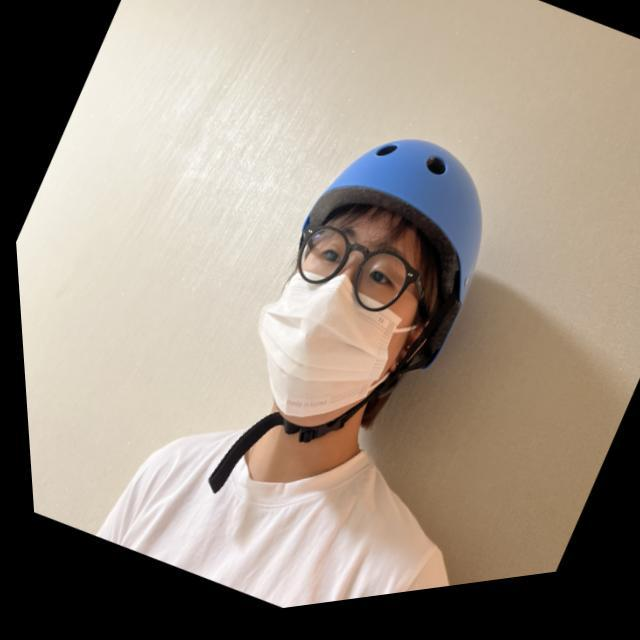Helmet: (238, 114, 496, 456)
